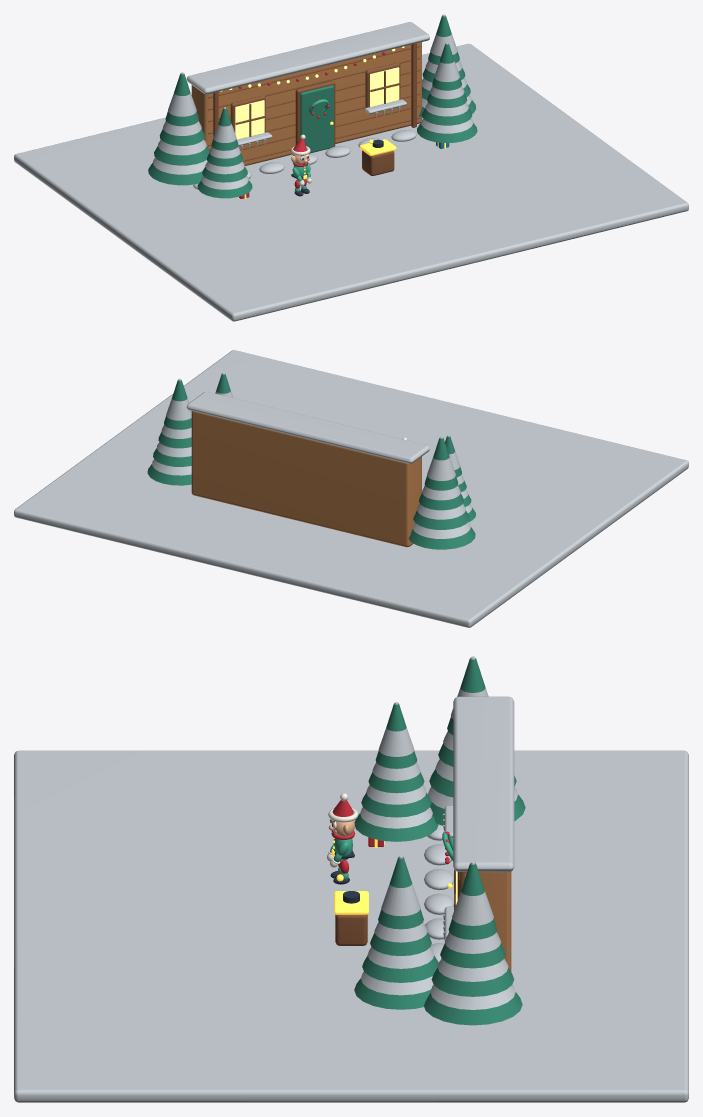
File: chapter-23.glb
3 renders of one model, top to bottom at view 1: azimuth 30°, elevation 25°; view 2: azimuth 150°, elevation 25°; view 3: azimuth 270°, elevation 25°, orthographic. The views are drawn at different scales.
Parts seen in each view (by area): view 1: Schneeboden, Werkstatt, Schneegesims, Wichteltür, Warmes Fenster, Warmes Fenster.001, Motor, Tannenzweig.004, Tannenzweig.008, Tannenzweig.009, Türrahmen, Tannenzweig.011 (+8 smaller); view 2: Schneeboden, Werkstatt, Schneegesims, Tannenzweig.008, Tannenzweig.009, Tannenzweig.011, Schnee.008, Schnee.011, Tannenzweig.015, Tannenzweig.012, Tannenzweig.010, Schnee.009 (+1 smaller); view 3: Schneeboden, Schneegesims, Werkstatt, Tannenzweig.012, Tannenzweig.013, Tannenzweig.015, Tannenzweig, Schnee.012, Tannenzweig.005, Tannenzweig.004, Schnee.015, Tannenzweig.007 (+16 smaller).
Part boxes in pixels (left/top/right/bottom): Schneeboden: left=14, top=43, right=688, bottom=321; Werkstatt: left=191, top=42, right=421, bottom=165; Schneegesims: left=186, top=22, right=429, bottom=94; Wichteltür: left=300, top=85, right=333, bottom=153; Warmes Fenster: left=235, top=100, right=264, bottom=139; Warmes Fenster.001: left=370, top=67, right=399, bottom=106; Motor: left=362, top=150, right=394, bottom=175; Tannenzweig.004: left=417, top=122, right=477, bottom=142; Tannenzweig.008: left=148, top=163, right=202, bottom=185; Tannenzweig.009: left=154, top=146, right=209, bottom=165; Türrahmen: left=295, top=81, right=335, bottom=146; Tannenzweig.011: left=165, top=73, right=198, bottom=126; Schneeboden: left=14, top=350, right=688, bottom=627; Werkstatt: left=191, top=411, right=421, bottom=547; Schneegesims: left=186, top=391, right=429, bottom=463; Tannenzweig.008: left=408, top=527, right=475, bottom=549; Tannenzweig.009: left=413, top=510, right=469, bottom=529; Tannenzweig.011: left=424, top=437, right=458, bottom=490; Schnee.008: left=412, top=522, right=470, bottom=538; Schnee.011: left=427, top=436, right=455, bottom=480; Tannenzweig.015: left=164, top=380, right=191, bottom=429; Tannenzweig.012: left=147, top=464, right=191, bottom=485; Tannenzweig.010: left=419, top=493, right=463, bottom=510; Schnee.009: left=417, top=504, right=465, bottom=519; Schneeboden: left=14, top=750, right=688, bottom=1102; Schneegesims: left=453, top=696, right=514, bottom=871; Werkstatt: left=466, top=871, right=511, bottom=971; Tannenzweig.012: left=424, top=992, right=522, bottom=1025; Tannenzweig.013: left=431, top=968, right=514, bottom=996; Tannenzweig.015: left=448, top=863, right=497, bottom=939; Tannenzweig: left=354, top=813, right=438, bottom=841; Schnee.012: left=430, top=985, right=515, bottom=1009; Tannenzweig.005: left=362, top=955, right=438, bottom=982; Tannenzweig.004: left=354, top=978, right=430, bottom=1009; Schnee.015: left=452, top=861, right=493, bottom=925; Tannenzweig.007: left=378, top=857, right=423, bottom=929.
Size of the model in its own units: 18 by 4.39 by 15.
